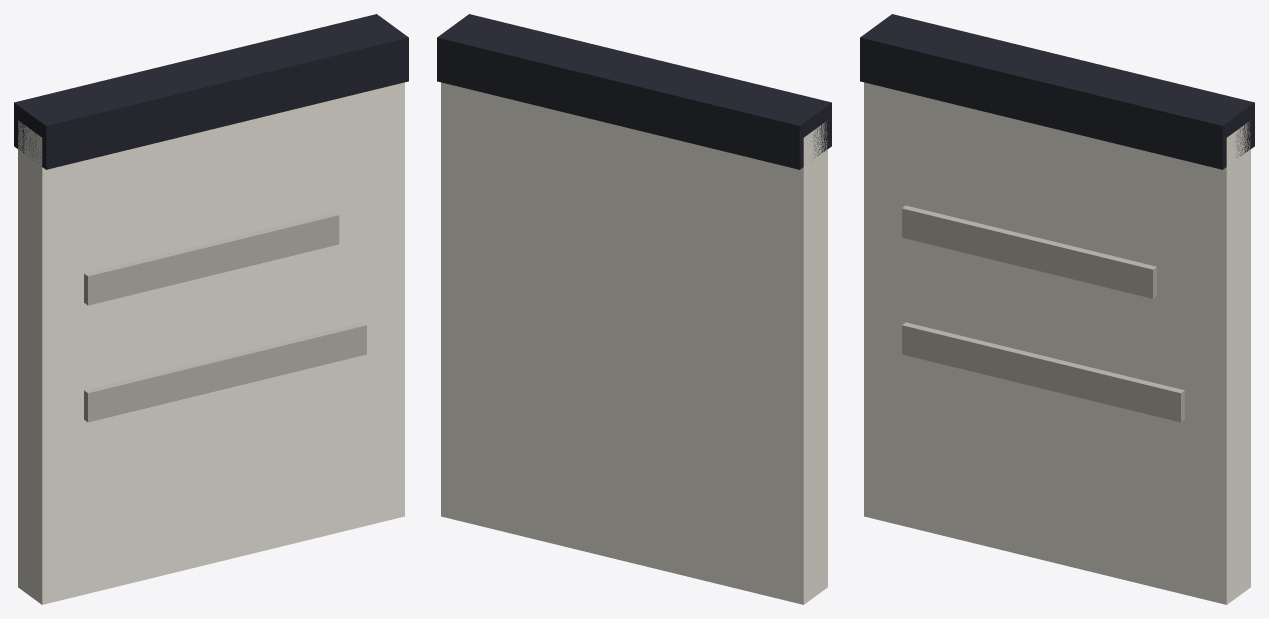
File: notepad.glb
3 views of the same model, side by side, from view 1: azimuth 30°, elevation 25°; view 2: azimuth 150°, elevation 25°; view 3: azimuth 330°, elevation 25° (orthographic).
Visible parts, largest first — view 1: notepad; view 2: notepad; view 3: notepad.
Boxes of the visible parts, bbox=[...] form: notepad: bbox=[14, 14, 408, 604]; notepad: bbox=[437, 14, 831, 604]; notepad: bbox=[860, 14, 1254, 604].
Bounding box in the file's own units: 0.13 × 0.165 × 0.02.
1 material, 1 textured.
